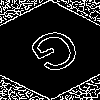G: (25, 25, 91, 85)
